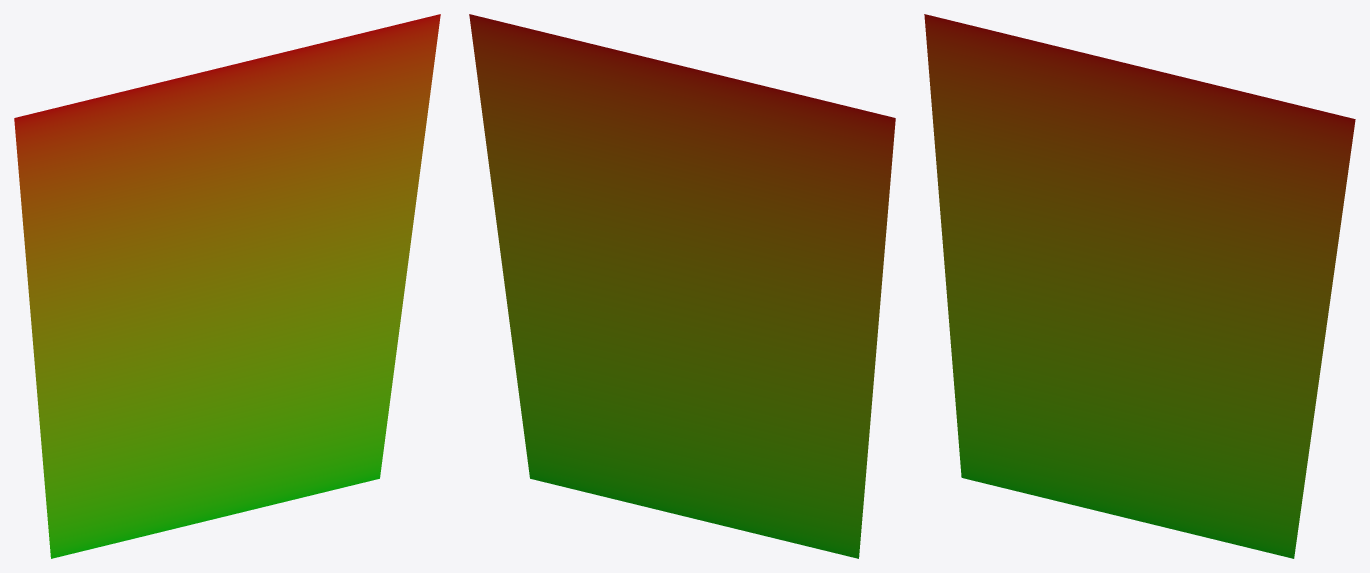
The model's file is Rough Meadow Grass_LOD3_Var5_skFjJ.fbx.
3 views of the same model, side by side, from view 1: azimuth 30°, elevation 25°; view 2: azimuth 150°, elevation 25°; view 3: azimuth 330°, elevation 25° (orthographic).
Parts seen in each view (by area): view 1: _8d6b_Var5_LOD3; view 2: _8d6b_Var5_LOD3; view 3: _8d6b_Var5_LOD3.
Boxes of the visible parts, x1=… form: _8d6b_Var5_LOD3: x1=14, y1=14, x2=440, y2=558; _8d6b_Var5_LOD3: x1=469, y1=14, x2=895, y2=558; _8d6b_Var5_LOD3: x1=924, y1=14, x2=1355, y2=558.
Bounding box in the file's own units: 82.51 × 83.15 × 2.98e-06.
